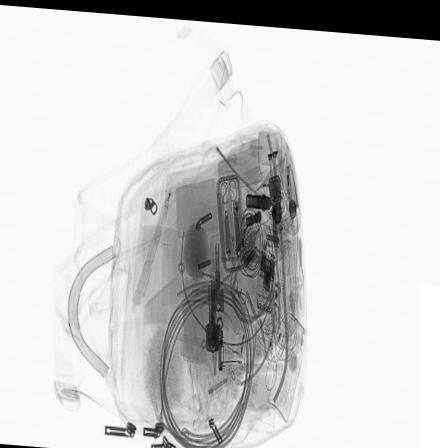Lighter: (279, 137, 298, 220)
